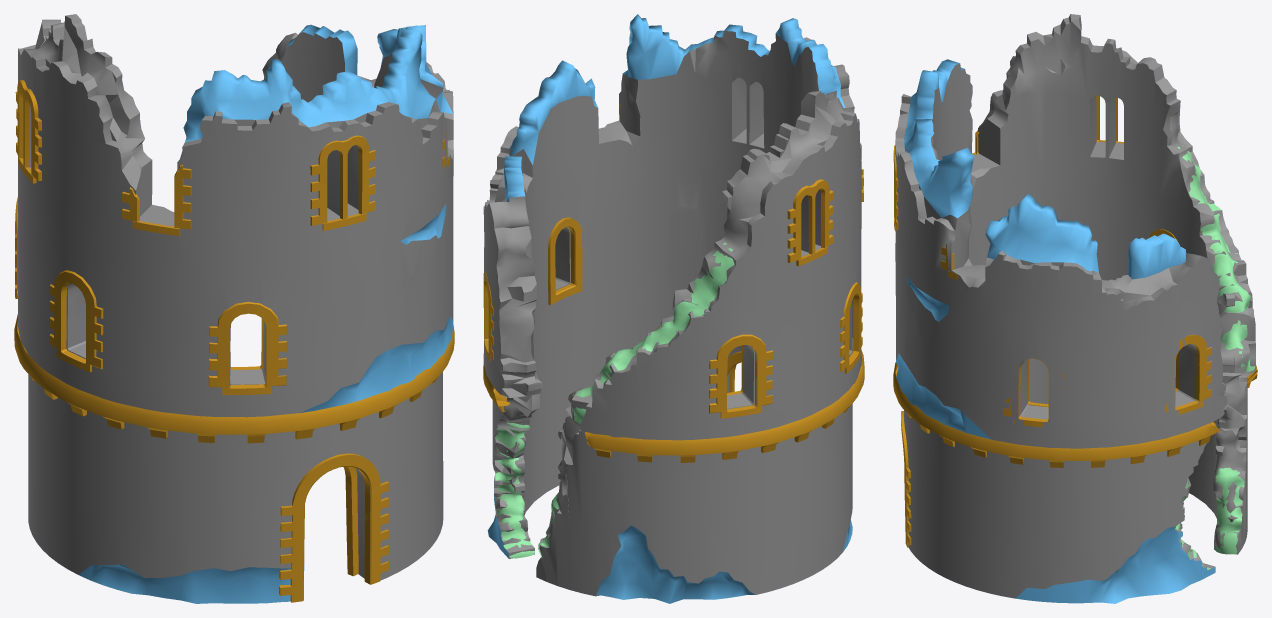
The model's file is SM_Castle_Tower_B_ALT2.fbx.
The picture shows the model from 3 angles, left to right: view 1: azimuth 30°, elevation 25°; view 2: azimuth 150°, elevation 25°; view 3: azimuth 270°, elevation 25°; orthographic projection. The views are drawn at different scales.
Parts seen in each view (by area): view 1: SM_Castle_Tower_B_ALT2_LOD0; view 2: SM_Castle_Tower_B_ALT2_LOD0; view 3: SM_Castle_Tower_B_ALT2_LOD0.
Boxes of the visible parts, bbox=[...] form: SM_Castle_Tower_B_ALT2_LOD0: bbox=[14, 14, 454, 603]; SM_Castle_Tower_B_ALT2_LOD0: bbox=[483, 14, 864, 603]; SM_Castle_Tower_B_ALT2_LOD0: bbox=[893, 14, 1257, 603].
Size of what is drawn, in the model's own units: 906 by 1236 by 907.
